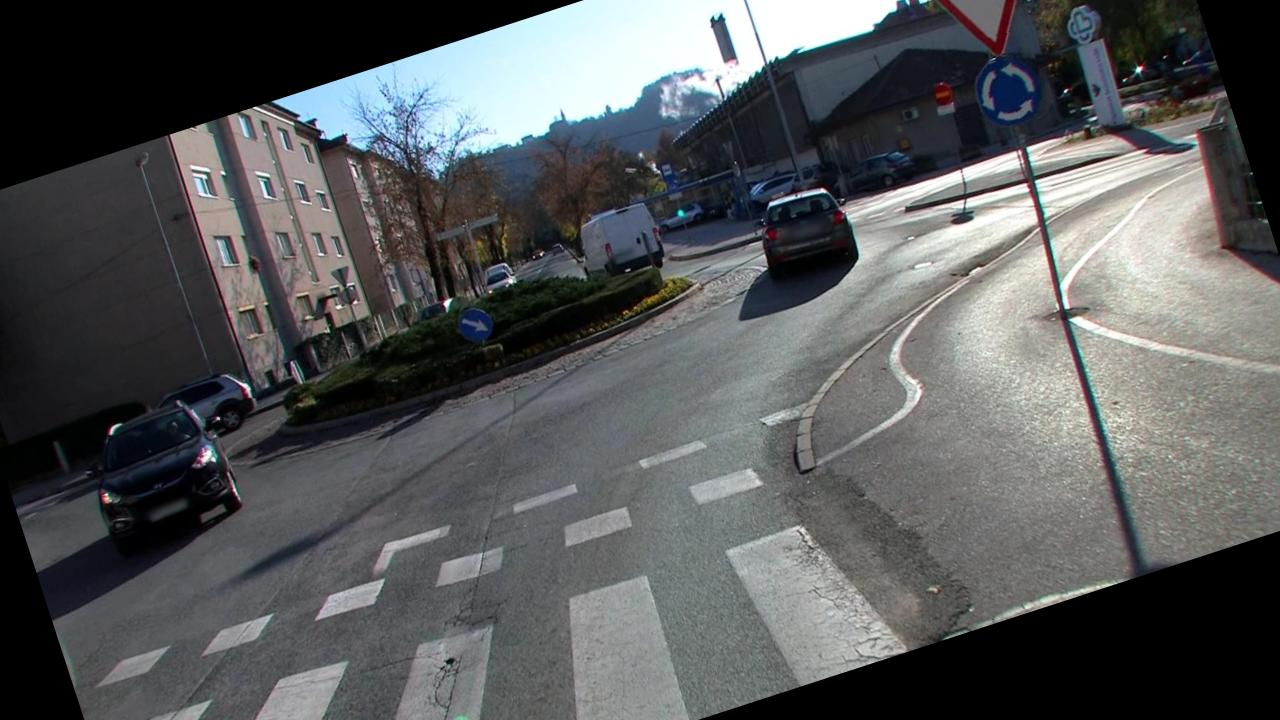Round: (968, 47, 1052, 132), (452, 302, 498, 348)
Triangle: (926, 0, 1049, 71)
